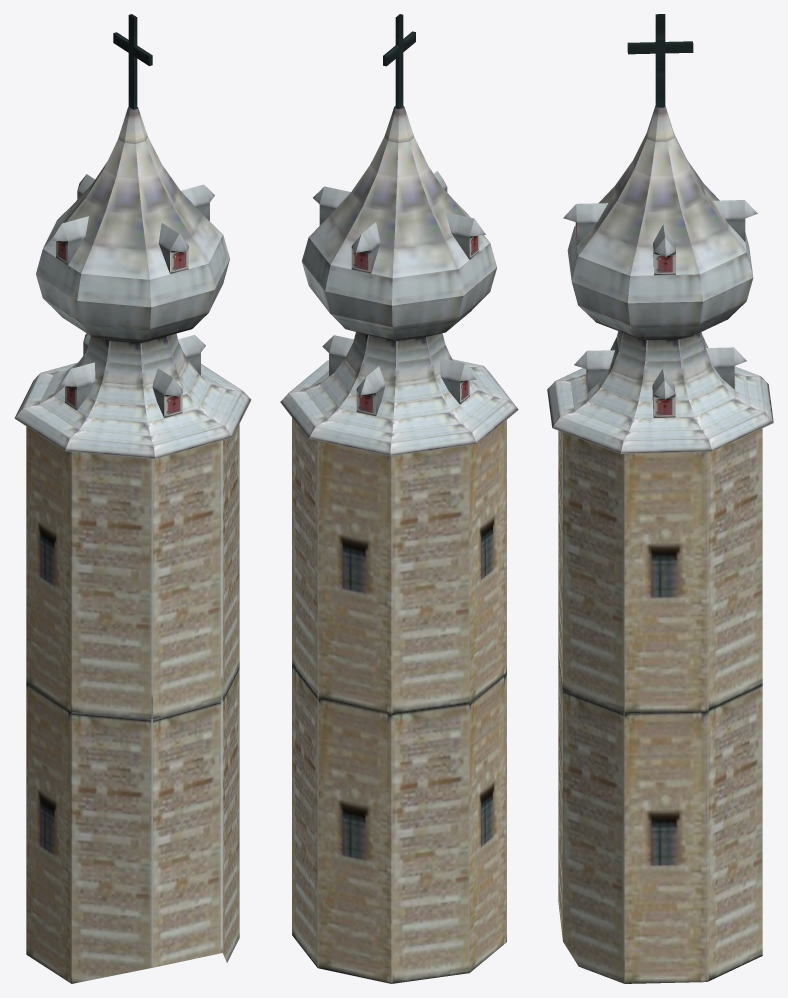
File: house_obj1.obj
3 renders of one model, left to right at view 1: azimuth 30°, elevation 25°; view 2: azimuth 150°, elevation 25°; view 3: azimuth 270°, elevation 25°, orthographic.
Parts seen in each view (by area): view 1: polySurface2; view 2: polySurface2; view 3: polySurface2.
Boxes of the visible parts, bbox=[...] form: polySurface2: bbox=[14, 14, 251, 983]; polySurface2: bbox=[280, 14, 518, 983]; polySurface2: bbox=[547, 14, 773, 983].
Size of the model in its own units: 433 by 1951 by 433.
Materials: 1 (1 with a texture image).
